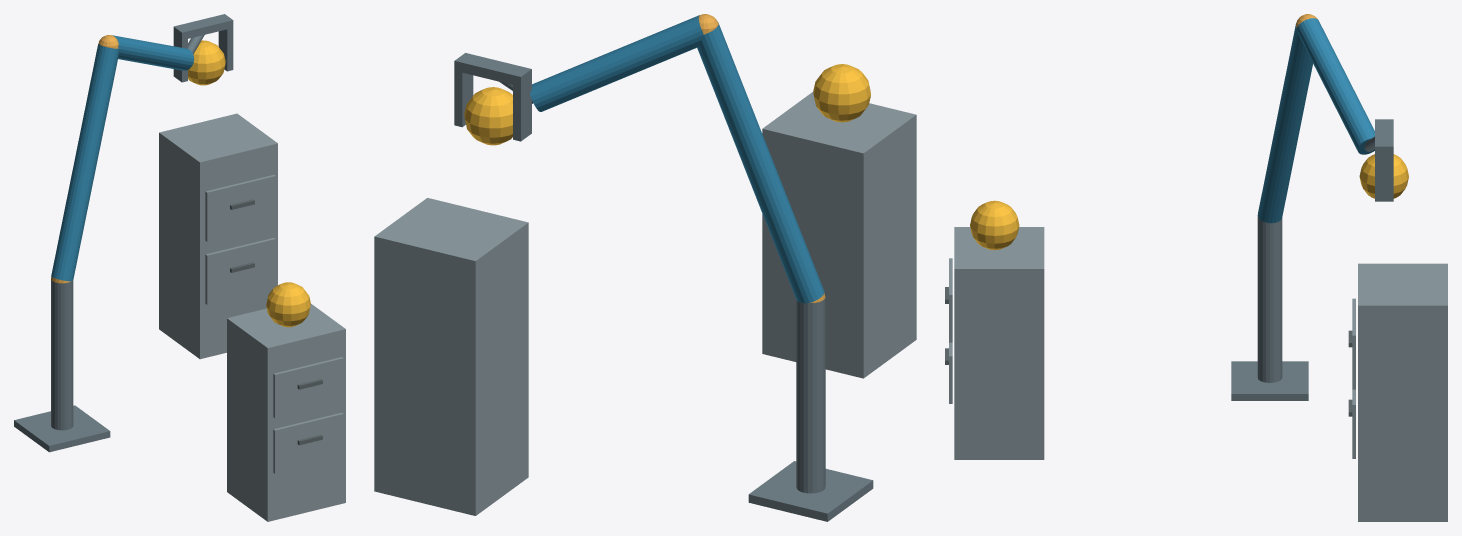
3 renders of one model, left to right at view 1: azimuth 30°, elevation 25°; view 2: azimuth 150°, elevation 25°; view 3: azimuth 270°, elevation 25°, orthographic. The views are drawn at different scales.
Visible parts, largest first — view 1: cabinet_2 body, cabinet_1 body, moving link 1, cabinet_2 drawer front.001, cabinet_2 drawer front, fixed post, cabinet_1 drawer front, cabinet_1 drawer front.001, pedestal, moving link 2, released ball_1, ball ball_2 (+2 smaller); view 2: cabinet_2 body, cabinet_1 body, moving link 1, fixed post, moving link 2, pedestal, released ball_1, ball ball_2, gripper bridge, gripper finger -1, gripper finger 1; view 3: cabinet_2 body, cabinet_1 body, moving link 1, fixed post, moving link 2, pedestal, released ball_1, ball ball_2, gripper finger 1, gripper bridge.
Boxes of the visible parts, x1,y1,x2,y2 form: cabinet_2 body: [159, 113, 277, 359]; cabinet_1 body: [227, 304, 345, 521]; moving link 1: [51, 44, 118, 281]; cabinet_2 drawer front.001: [205, 175, 275, 241]; cabinet_2 drawer front: [205, 238, 275, 304]; fixed post: [51, 280, 73, 430]; cabinet_1 drawer front: [273, 412, 343, 473]; cabinet_1 drawer front.001: [273, 357, 343, 418]; pedestal: [14, 405, 110, 452]; moving link 2: [112, 35, 194, 70]; released ball_1: [266, 282, 310, 327]; ball ball_2: [188, 40, 225, 85]; cabinet_2 body: [374, 198, 528, 515]; cabinet_1 body: [762, 92, 916, 378]; moving link 1: [697, 23, 824, 303]; fixed post: [796, 296, 825, 493]; moving link 2: [530, 15, 703, 111]; pedestal: [748, 461, 873, 521]; released ball_1: [813, 64, 870, 122]; ball ball_2: [464, 87, 512, 145]; gripper bridge: [454, 53, 531, 86]; gripper finger -1: [513, 79, 531, 141]; gripper finger 1: [454, 71, 473, 127]; cabinet_2 body: [1358, 263, 1447, 521]; cabinet_1 body: [954, 227, 1044, 459]; moving link 1: [1257, 23, 1312, 223]; fixed post: [1257, 217, 1282, 382]; moving link 2: [1297, 18, 1374, 154]; pedestal: [1231, 361, 1308, 400]; released ball_1: [970, 200, 1019, 250]; ball ball_2: [1359, 154, 1408, 198]; gripper finger 1: [1375, 155, 1393, 201]; gripper bridge: [1375, 119, 1393, 155].
Bounding box in the file's own units: 1.17 × 1.44 × 1.62.
